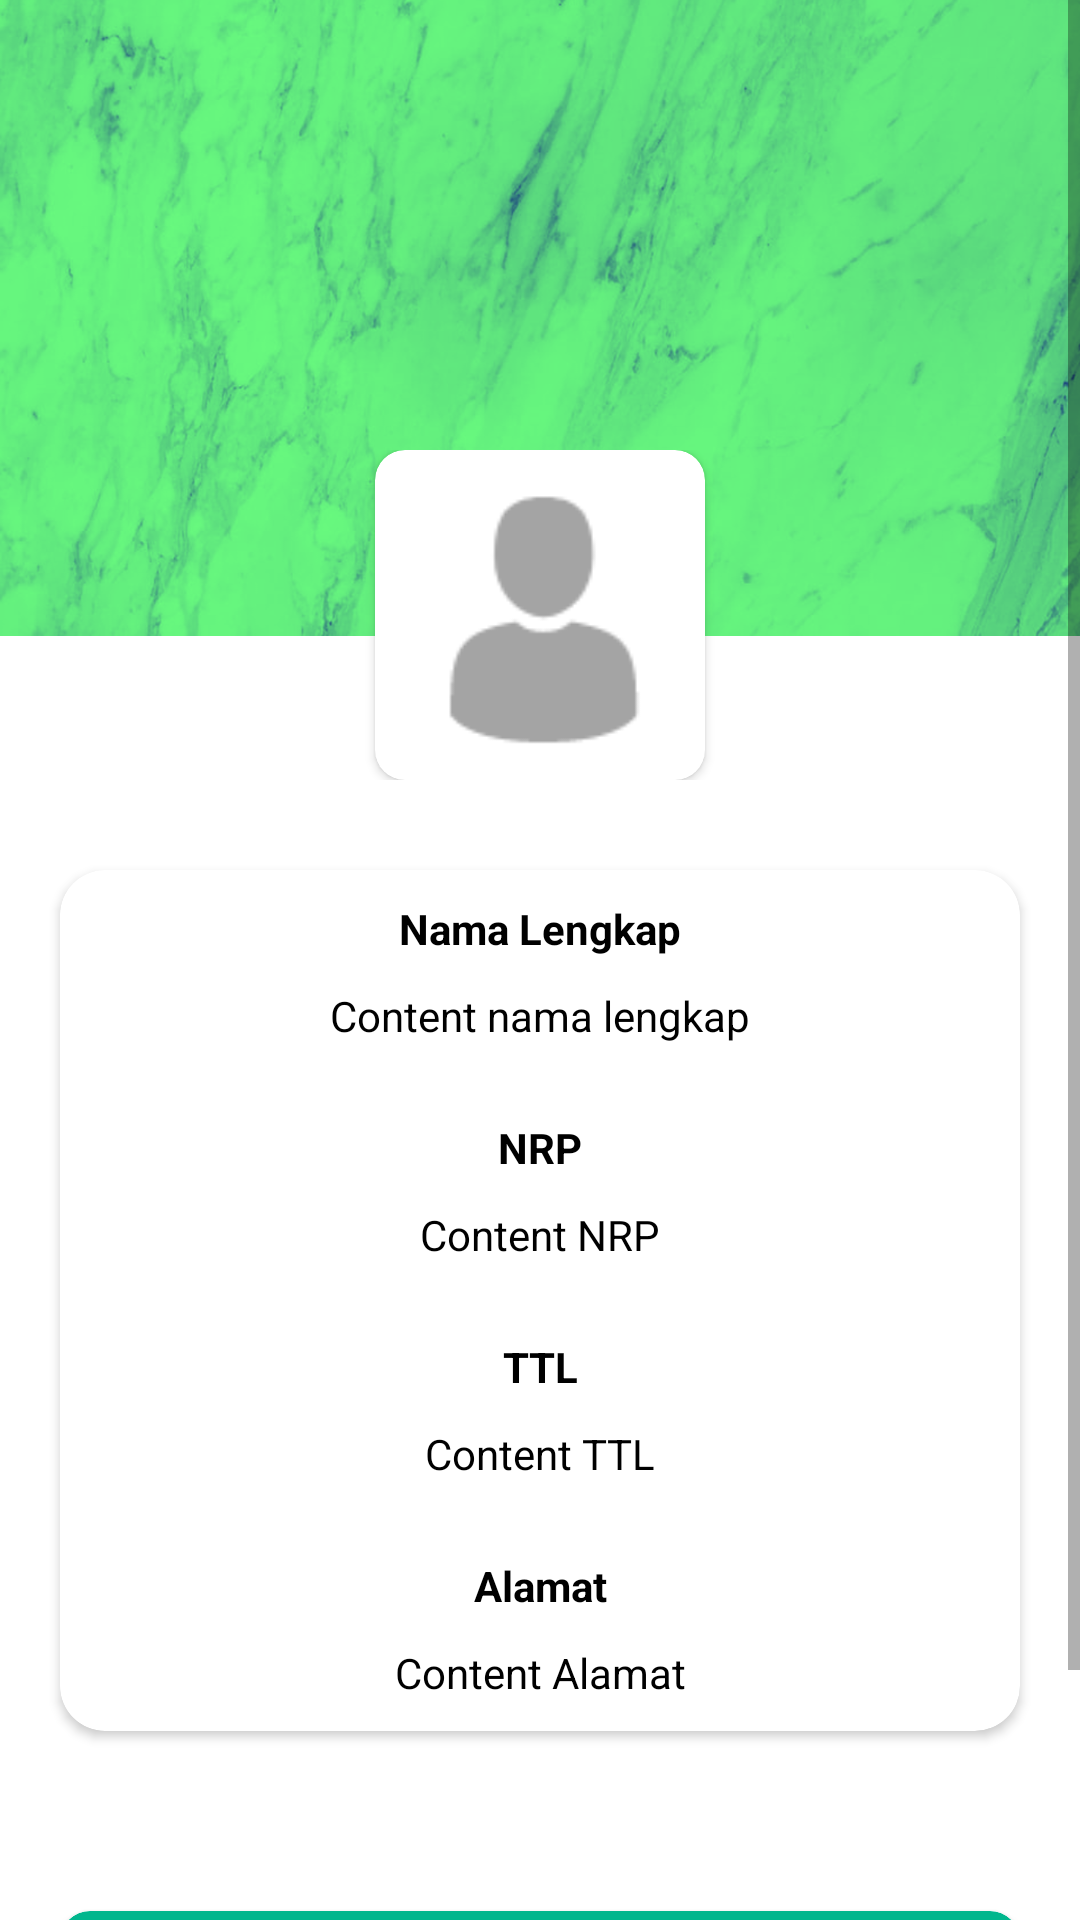

Icon click points for this 1080*1920 phone screenshot, format (x,y):
buttonprofile: (540,615)
